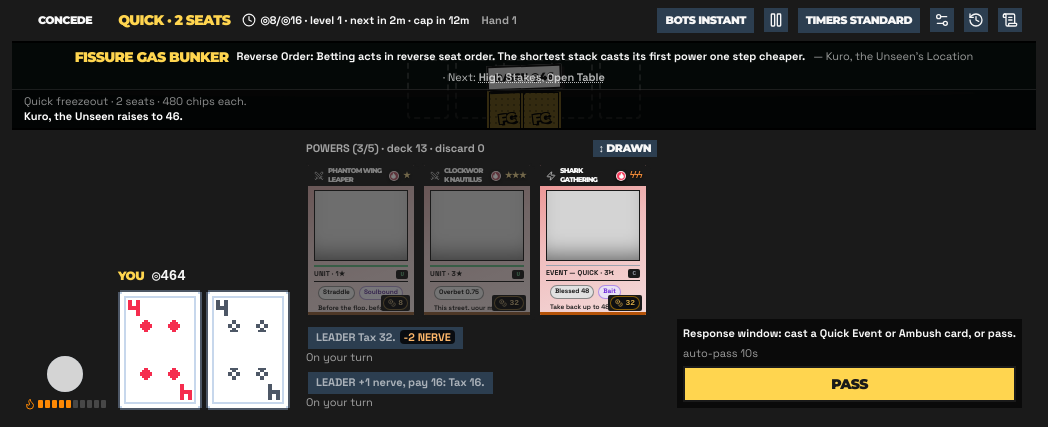
Test: panels and Escape › Esc closes the table log and settings, and is not a pass or a fold
Click the button "PASS" at (850, 384), box [683,366,1016,402]
Wait 450 ms
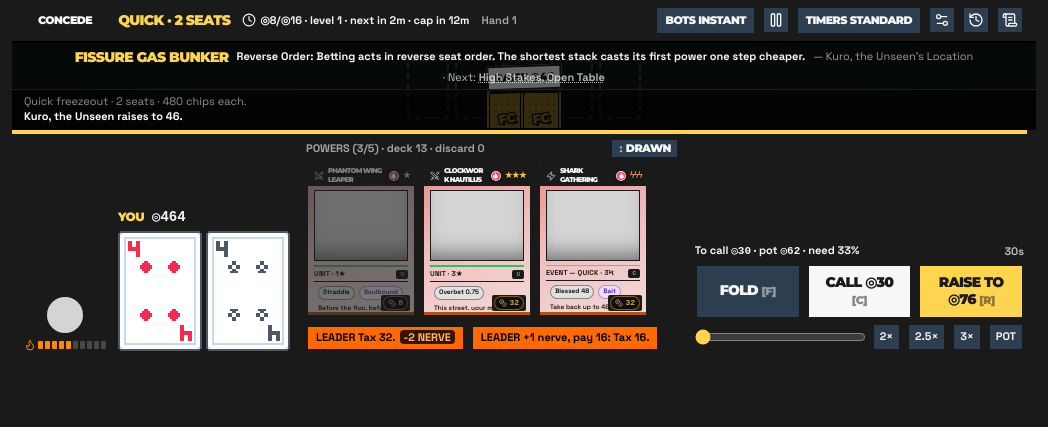
Click the button named "Table log" at (1010, 20), box [996,6,1024,34]
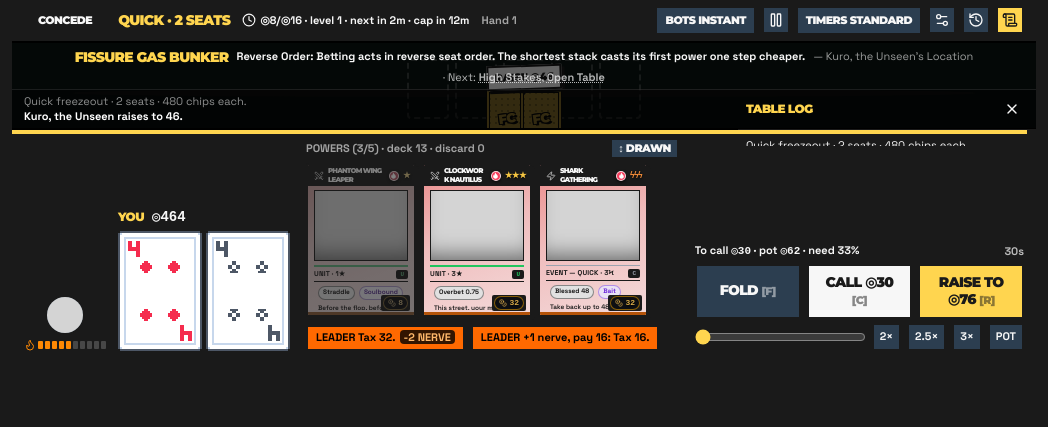
Press Escape
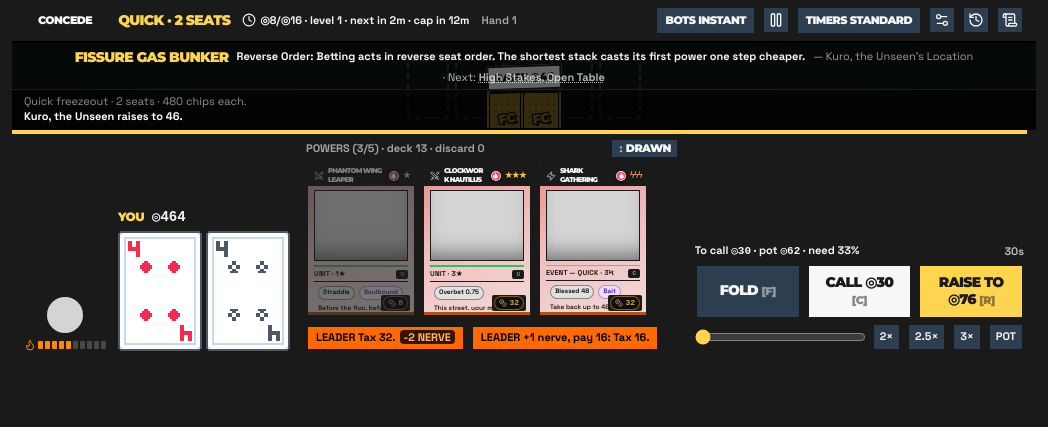
Click the button named "Table settings" at (942, 20), box [928,6,956,34]
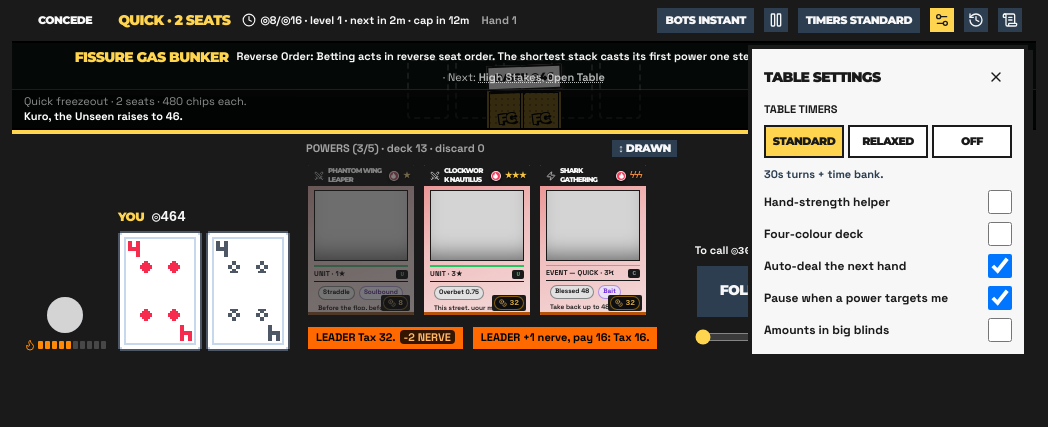
Now the element "TABLE SETTINGS" is shown, box [748,44,1028,358]
Press Escape
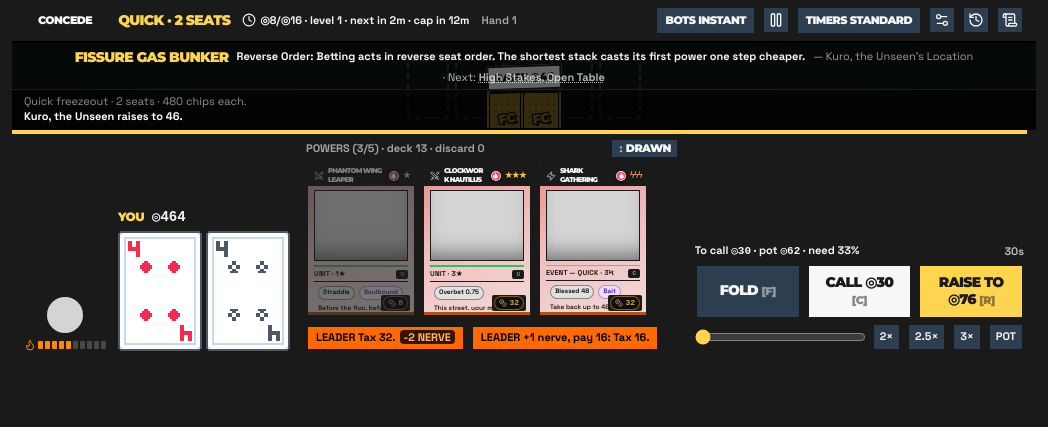
Now the text "TABLE SETTINGS" is gone
